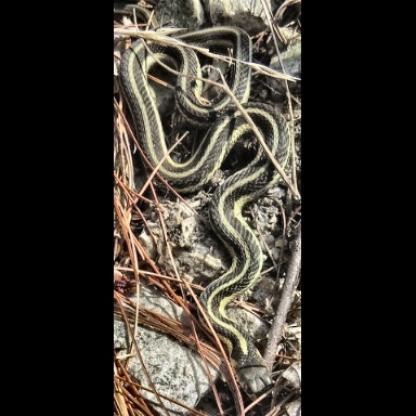Snake: (114, 11, 306, 395)
